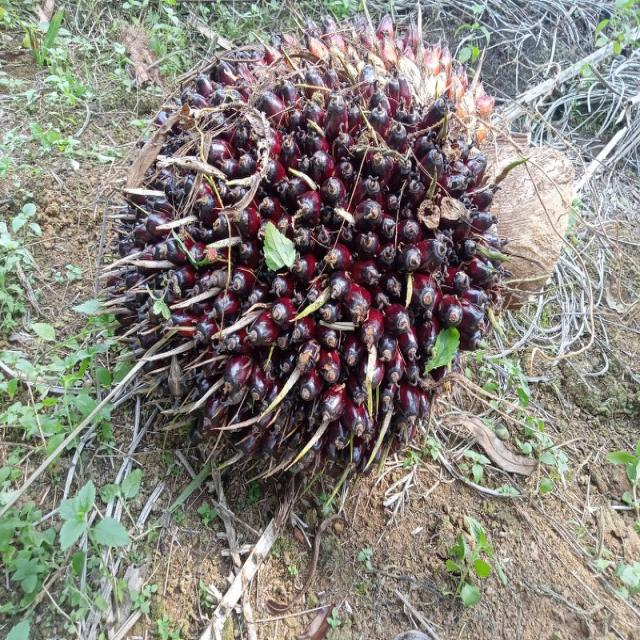fraksi 1: (99, 48, 505, 473)
